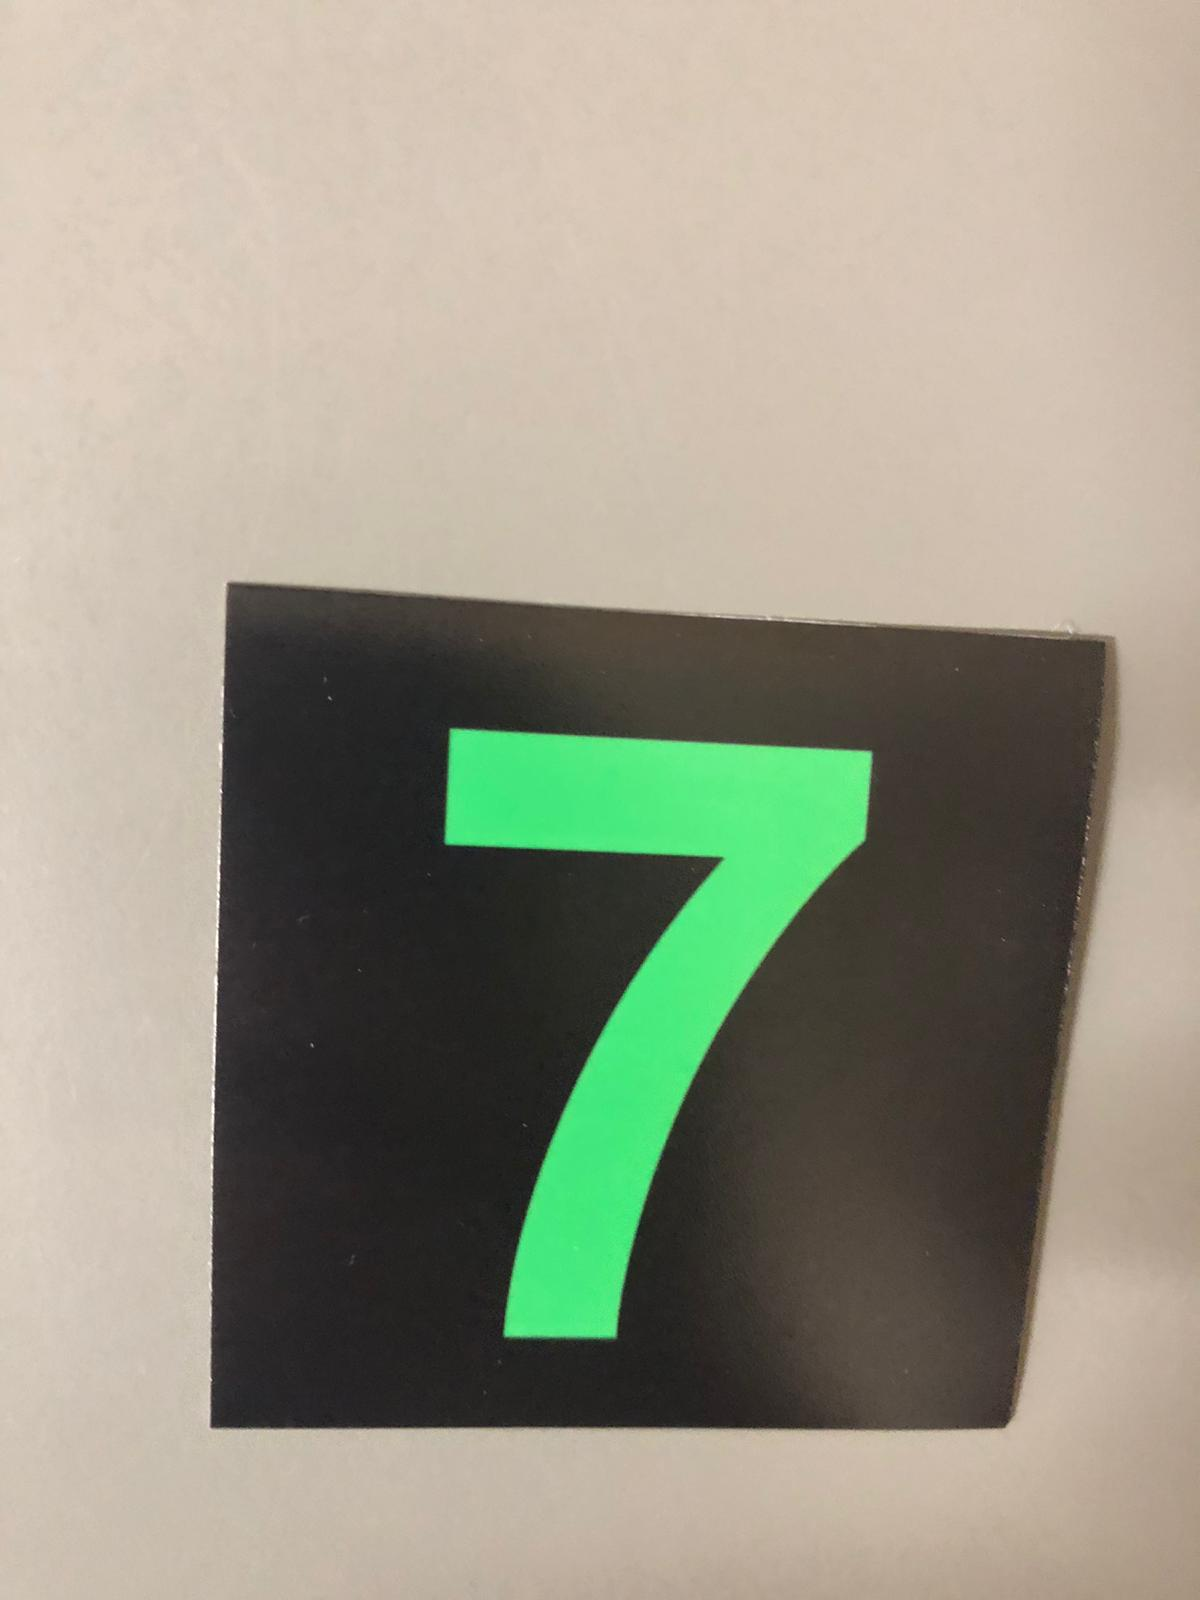Number 7: (245, 615, 993, 1422)
